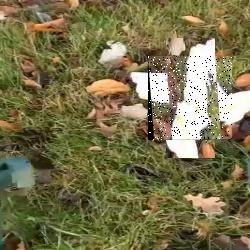restaffald: (148, 56, 232, 140)
